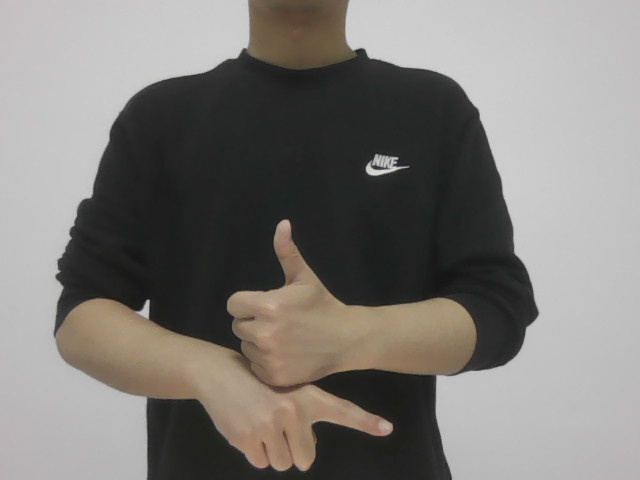birthday: (199, 211, 413, 473)
